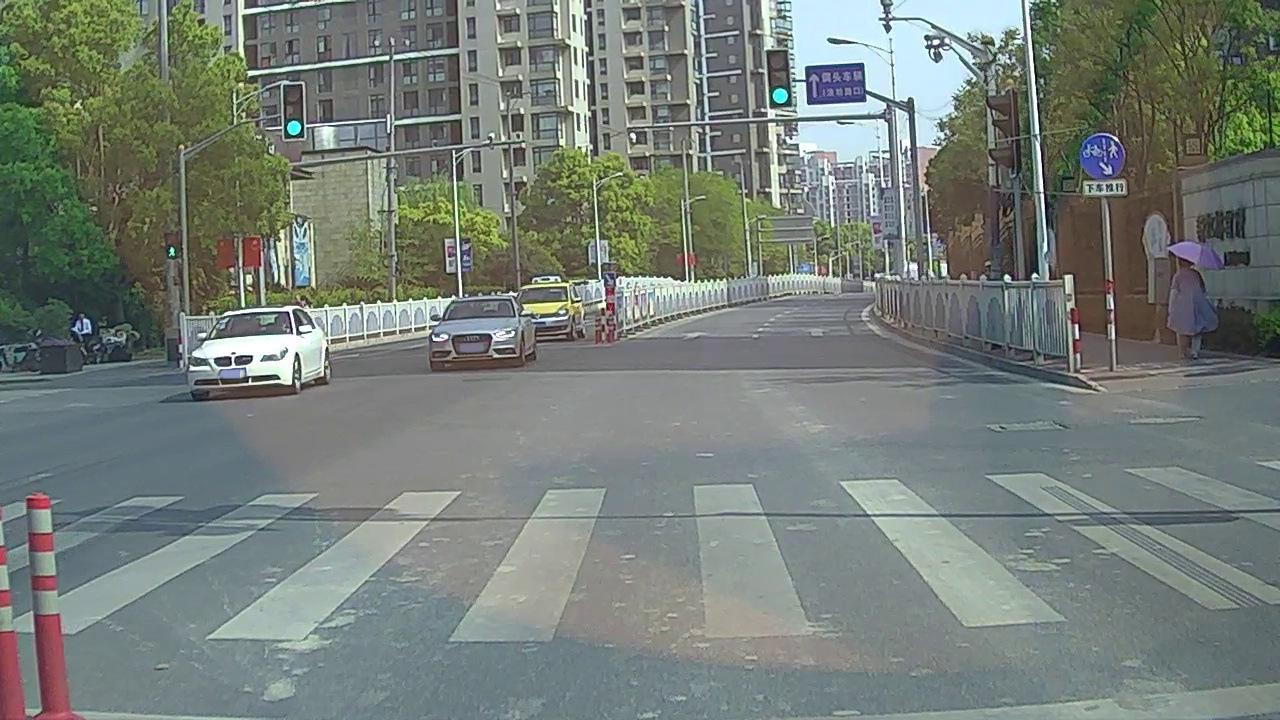traffic_light: (283, 83, 305, 139), (769, 51, 790, 107)
